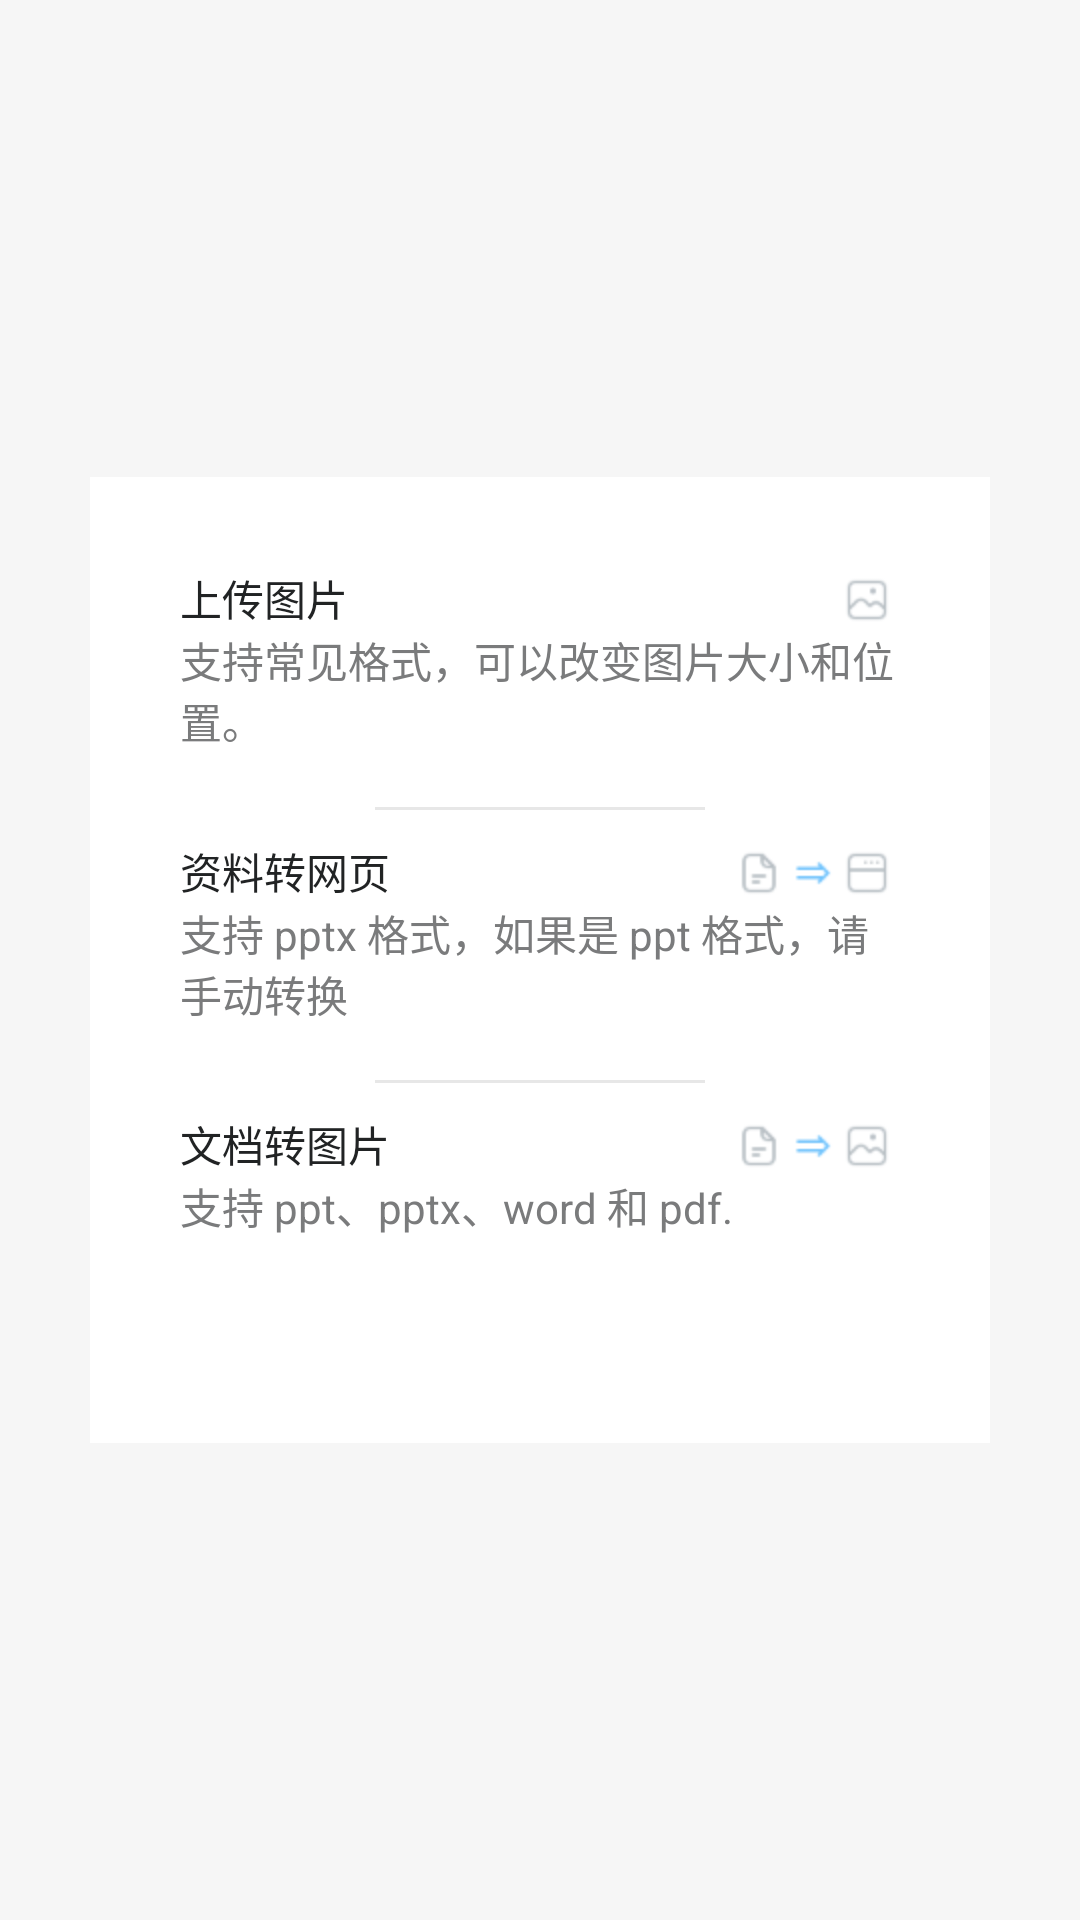

Point at icon controls on the screen. Image size 1080*1920, points as point (x, y).
filetransimg: point (814, 1146)
filetransweb: point (814, 873)
